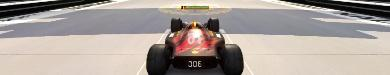Car: (145, 17, 243, 74)
